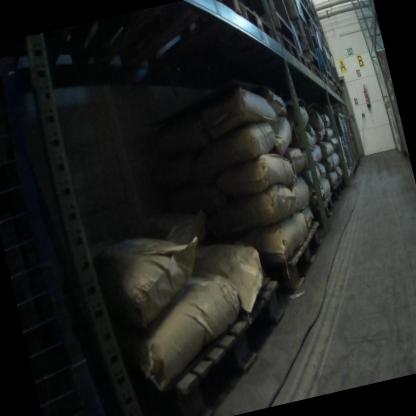pallet: (127, 269, 304, 416), (0, 13, 152, 119), (259, 217, 342, 303), (296, 185, 344, 250), (239, 0, 284, 59), (178, 0, 243, 37), (323, 176, 355, 223), (276, 25, 301, 68), (295, 46, 315, 78), (339, 168, 358, 192), (314, 16, 328, 44), (301, 0, 318, 23), (309, 61, 323, 87), (320, 73, 330, 90), (335, 86, 345, 102), (329, 80, 337, 96)
stillage: (282, 0, 323, 73), (257, 0, 299, 45), (332, 110, 356, 175), (309, 20, 333, 83), (341, 113, 359, 171), (318, 37, 338, 89), (347, 113, 364, 168), (329, 49, 345, 93)
